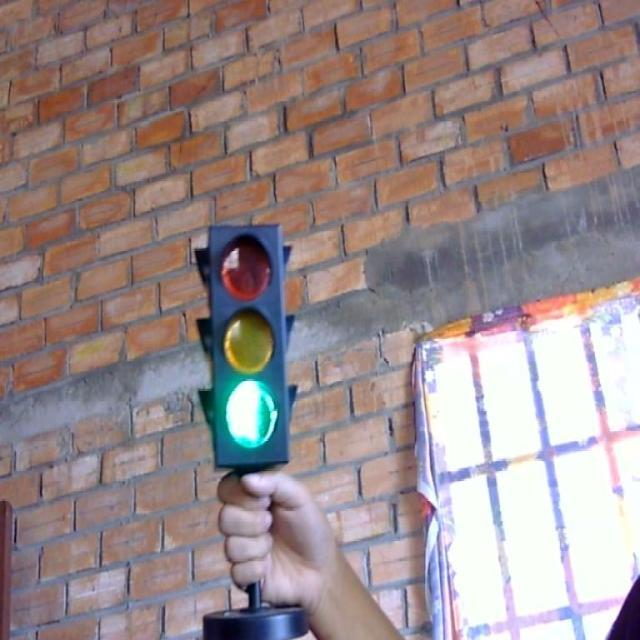green light: (218, 378, 284, 453)
